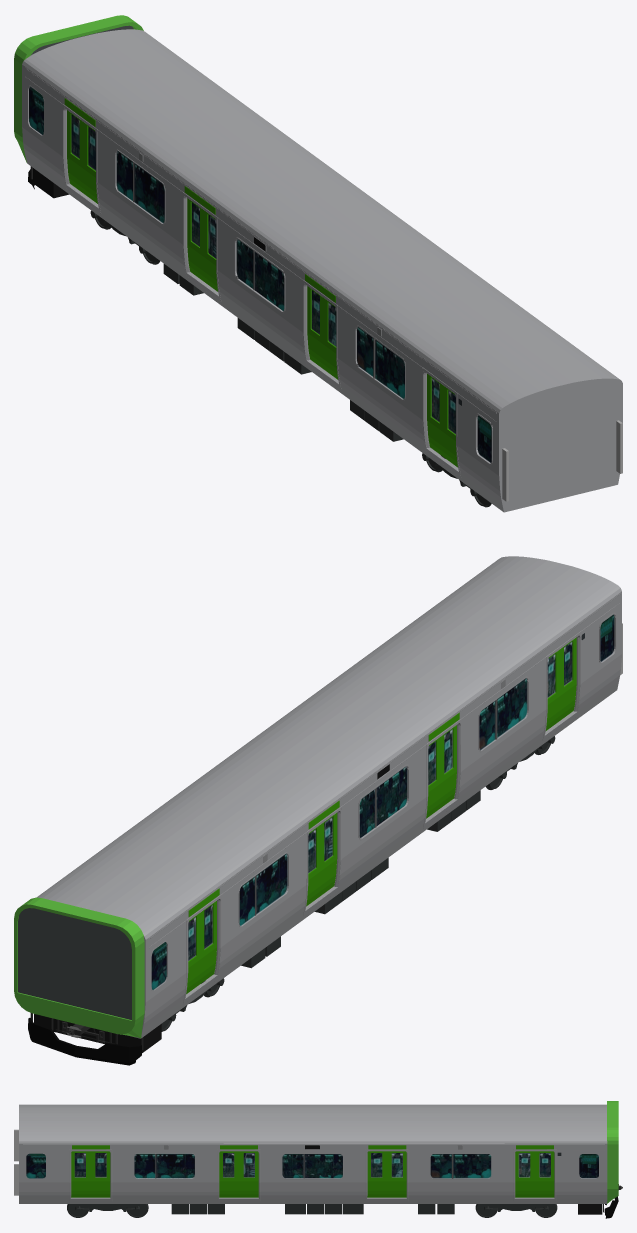
File: head.glb
3 views of the same model, one above another, from view 1: azimuth 30°, elevation 25°; view 2: azimuth 150°, elevation 25°; view 3: azimuth 270°, elevation 25° (orthographic). The views are drawn at different scales.
Visible parts, largest first — view 1: 立方体.021, 立方体.061, pic, pic.001, e235, 立方体.069; view 2: 立方体.021, 立方体.061, e235.002, pic, e235, pic.001, 平面.002, 立方体.069, 立方体.014; view 3: 立方体.061, 立方体.021, pic.003, pic.002, 立方体.069, e235, 円柱.014, 円柱.005, 立方体.064, 立方体.020, 立方体.014.
Boxes of the visible parts, x1,y1,x2,y2 form: 立方体.021: [22, 36, 561, 512]; 立方体.061: [84, 29, 622, 498]; pic: [29, 86, 491, 462]; pic.001: [71, 114, 455, 434]; e235: [14, 15, 143, 162]; 立方体.069: [163, 264, 403, 441]; 立方体.021: [88, 563, 622, 1038]; 立方体.061: [36, 556, 559, 908]; e235.002: [18, 908, 131, 1019]; pic: [151, 614, 614, 989]; e235: [14, 897, 144, 1038]; pic.001: [188, 641, 572, 960]; 平面.002: [28, 1018, 141, 1065]; 立方体.069: [241, 790, 480, 968]; 立方体.014: [34, 1014, 161, 1052]; 立方体.061: [14, 1117, 607, 1203]; 立方体.021: [14, 1104, 606, 1161]; pic.003: [26, 1153, 598, 1178]; pic.002: [74, 1153, 550, 1177]; 立方体.069: [171, 1204, 454, 1214]; e235: [607, 1101, 618, 1203]; 円柱.014: [475, 1204, 557, 1217]; 円柱.005: [67, 1204, 148, 1217]; 立方体.064: [73, 1204, 141, 1211]; 立方体.020: [482, 1204, 550, 1211]; 立方体.014: [578, 1204, 602, 1214].
Bounding box in the file's own units: 2.08 × 2.45 × 14.08.
Materials: 58 (4 with a texture image).
